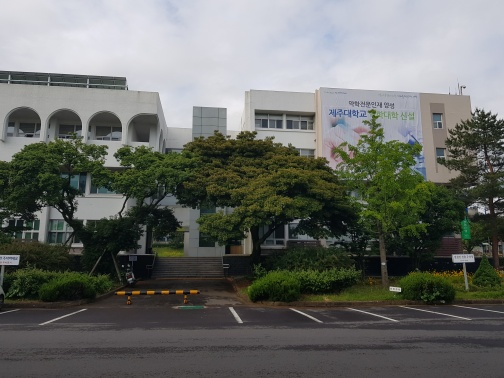Main Building of University: (4, 54, 499, 272), (5, 97, 161, 154)
